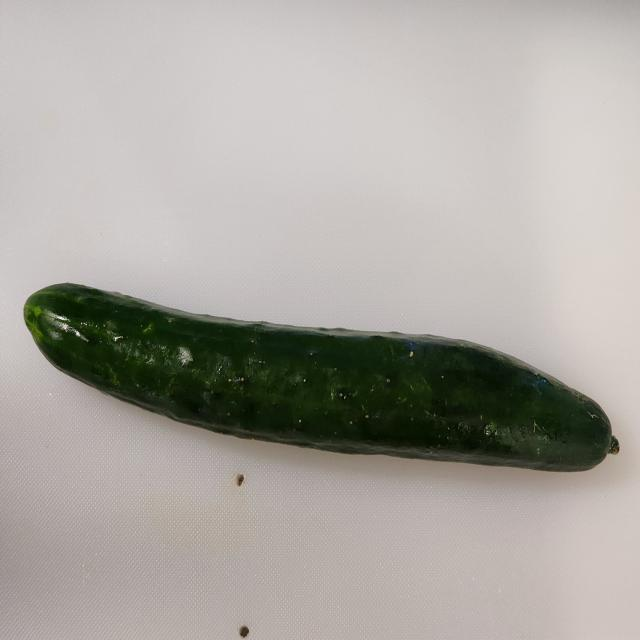cucumber: (23, 280, 620, 473)
